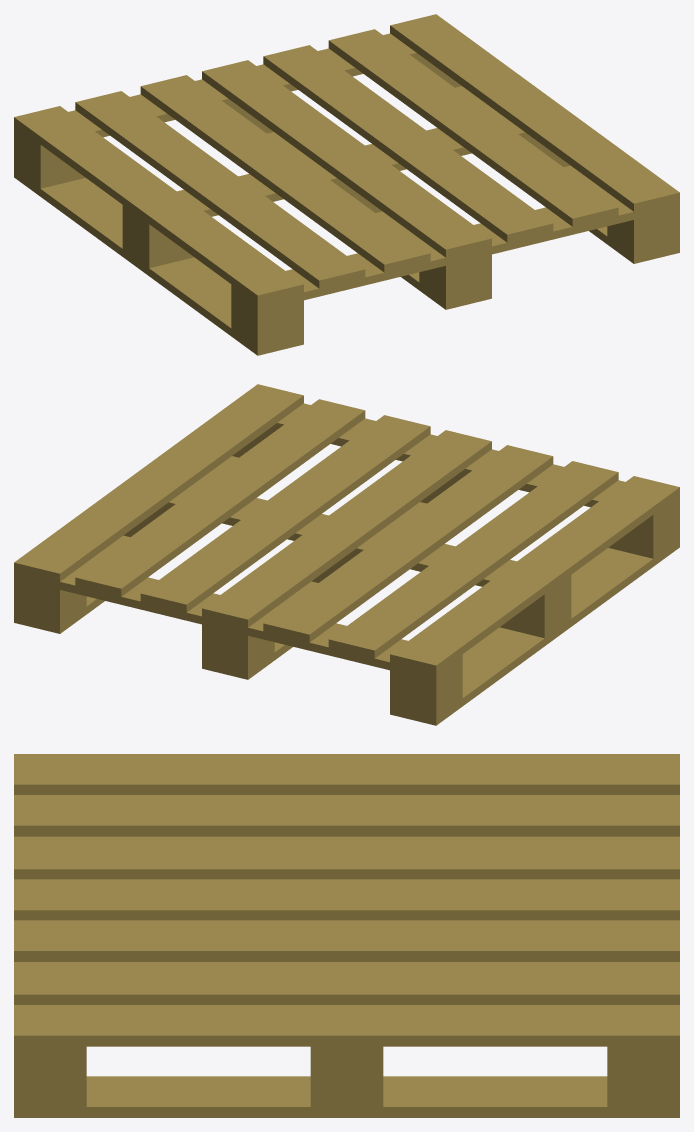
File: ob_Pallet.fbx
3 views of the same model, one above another, from view 1: azimuth 30°, elevation 25°; view 2: azimuth 150°, elevation 25°; view 3: azimuth 270°, elevation 25° (orthographic). The views are drawn at different scales.
Visible parts, largest first — view 1: pCube63; view 2: pCube63; view 3: pCube63.
Part boxes in pixels (<box>): pCube63: <box>14,14,679,355</box>; pCube63: <box>14,384,679,725</box>; pCube63: <box>14,754,679,1117</box>.
Size of the model in its own units: 110 by 15 by 110.
